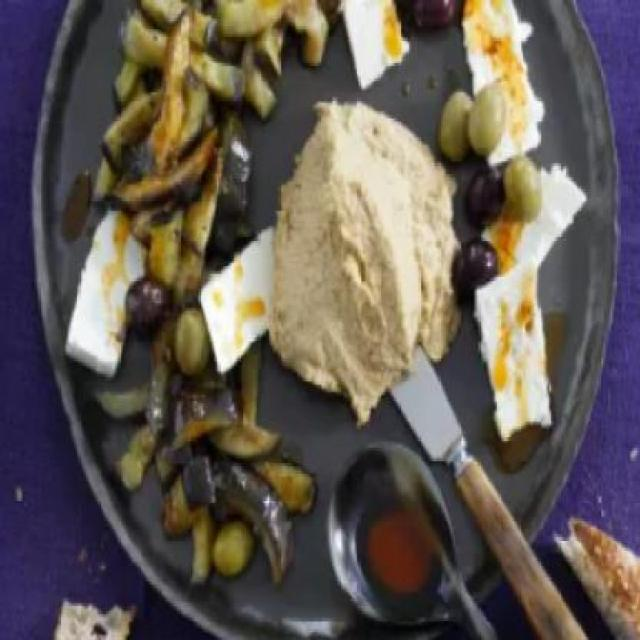hummus: (277, 105, 451, 393)
